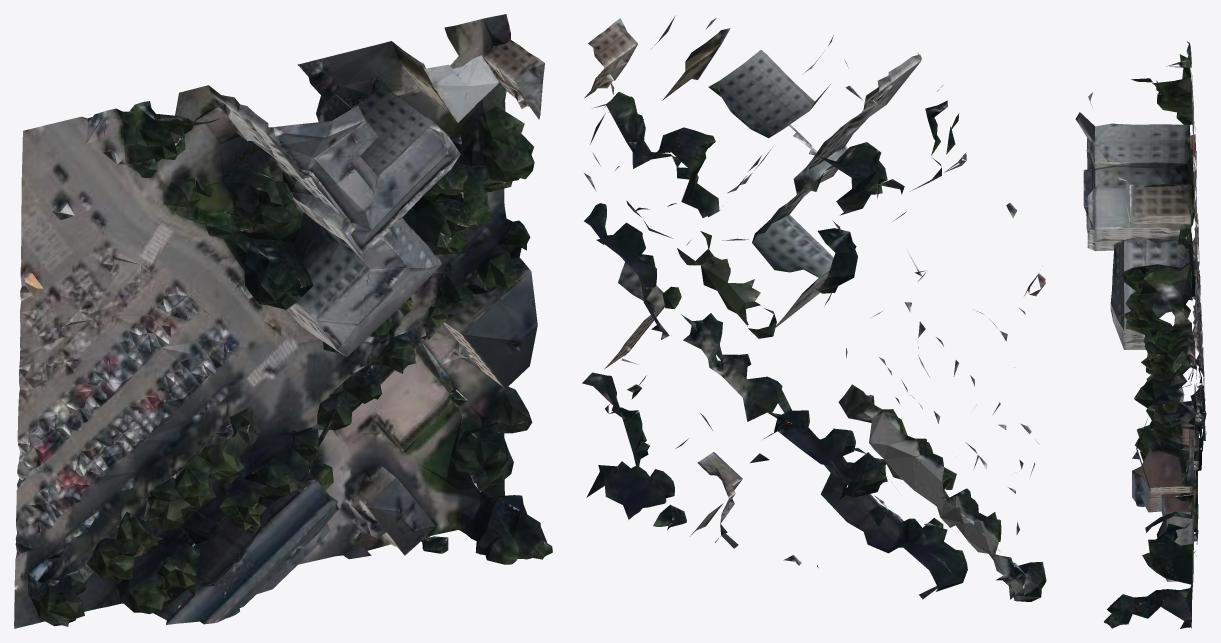
File: Tile_+031_+017_L17_0003.glb
3 renders of one model, left to right at view 1: azimuth 30°, elevation 25°; view 2: azimuth 150°, elevation 25°; view 3: azimuth 270°, elevation 25°, orthographic. The views are drawn at different scales.
Bounding box in the file's own units: 126 × 126 × 35.71.
1 material, 1 textured.
